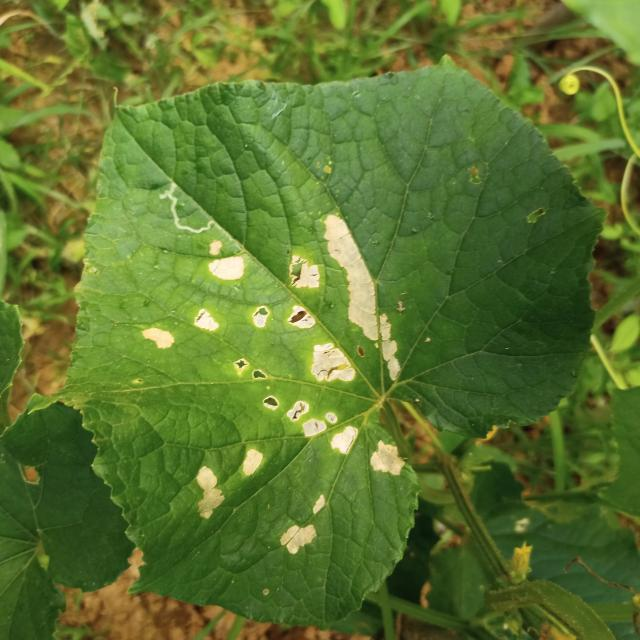disease_cucumber: (145, 216, 411, 482), (191, 448, 269, 525), (277, 494, 329, 561)
